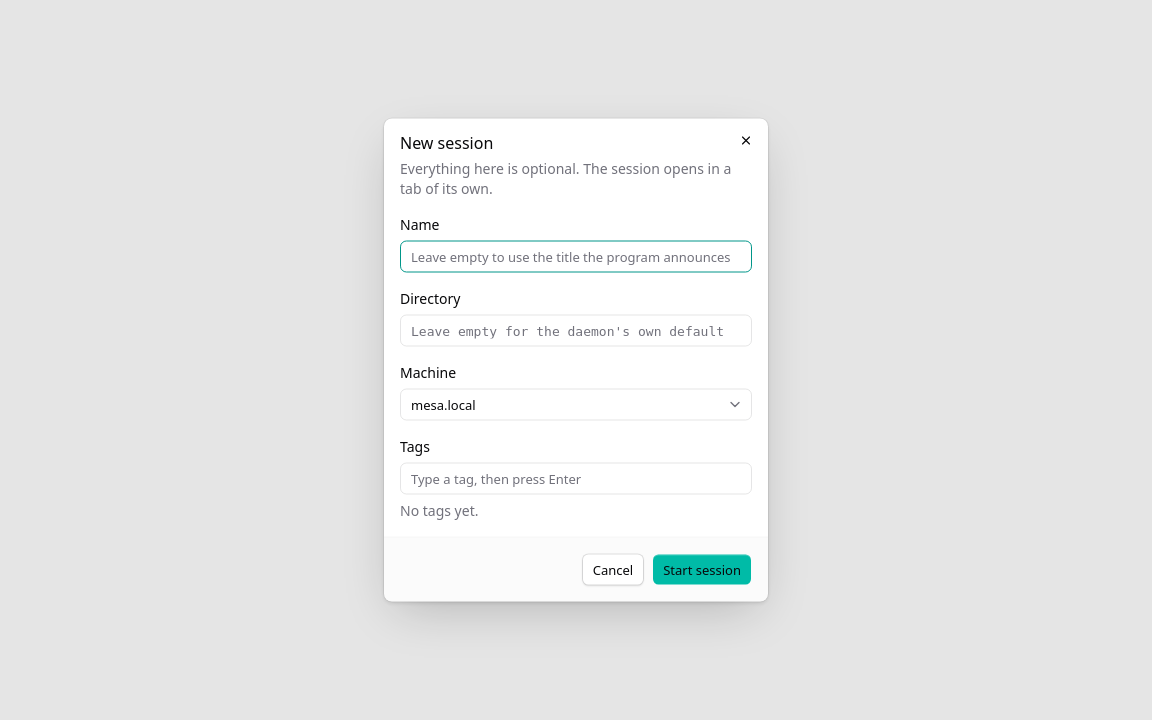
Scenario: NewSessionDialog › does not start a session on the Enter that finishes a tag
Type "ops" into the field labelled "Tags" at (576, 478), box [400,462,752,494]
Then press Enter
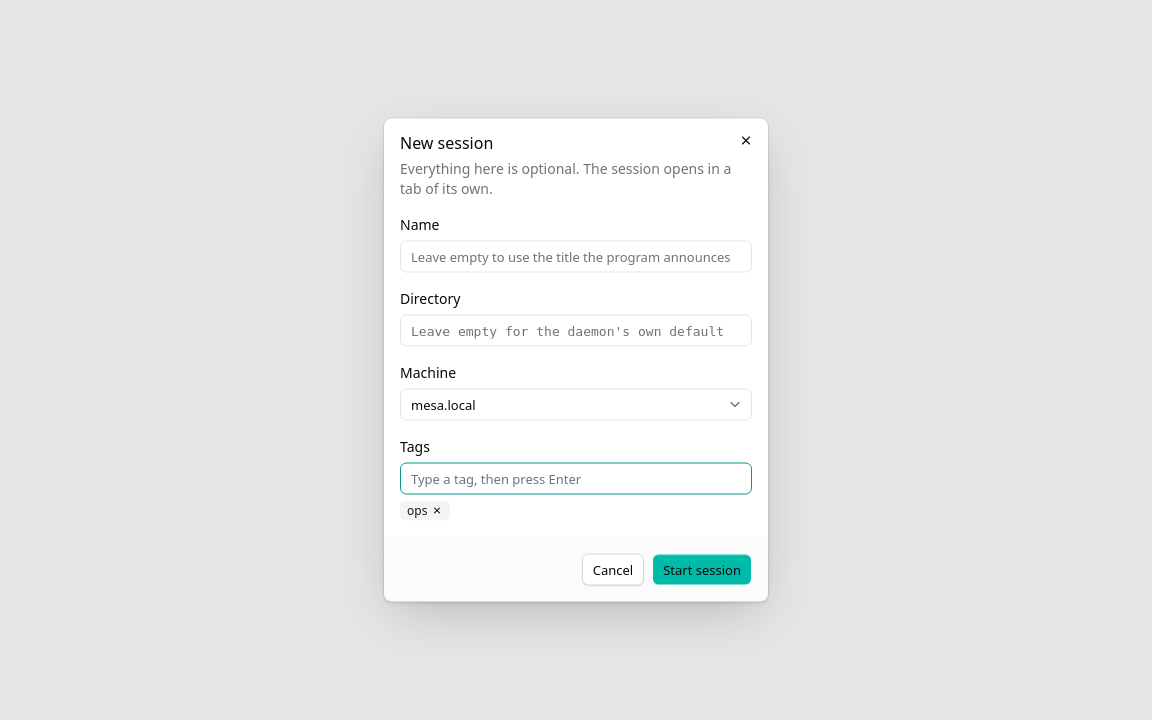
Expected: the button with aria-label "Remove ops" is shown, [400,500,450,520]
